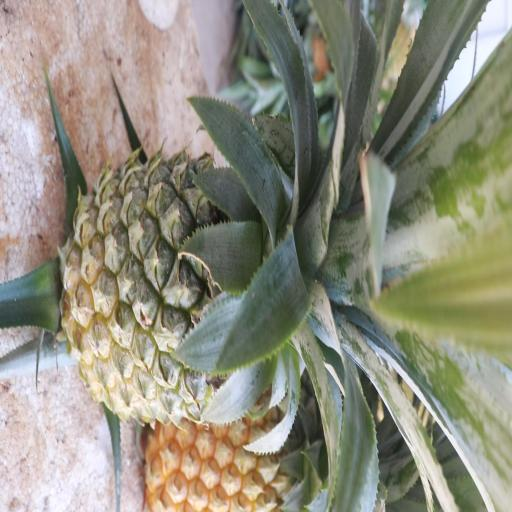------------------------------: (70, 144, 331, 418)
Pineapple - v8 v1: (149, 393, 334, 512)
